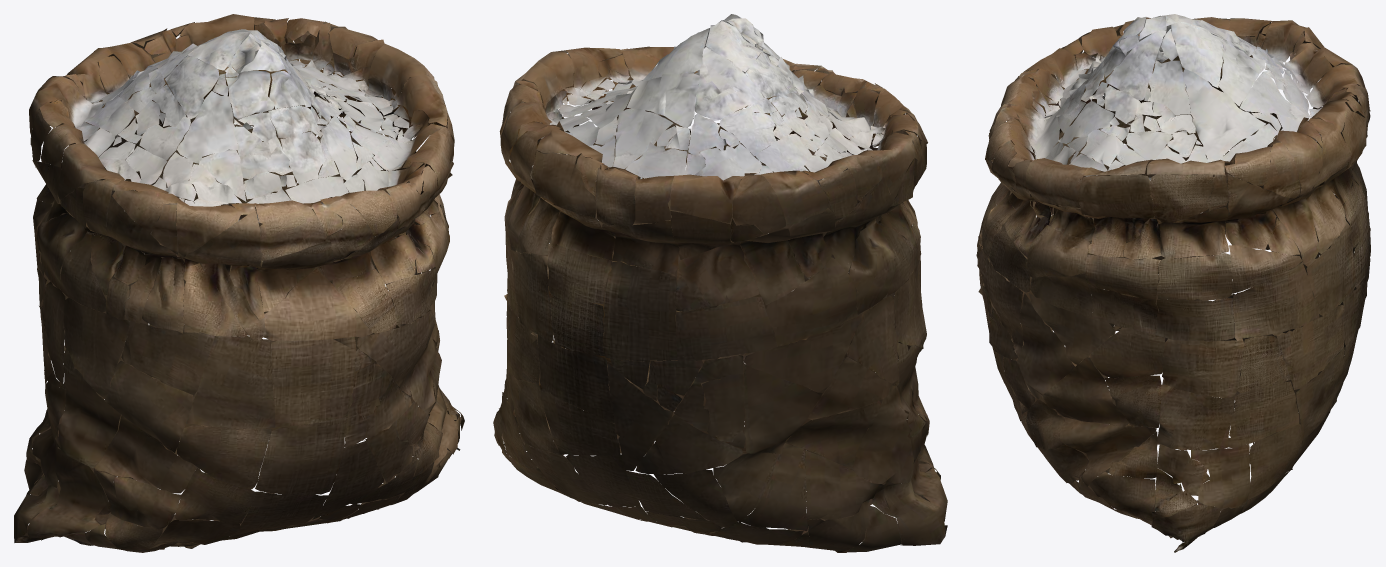
The model's file is a081_agzi_acik_un_cuvali.glb.
The picture shows the model from 3 angles, left to right: view 1: azimuth 30°, elevation 25°; view 2: azimuth 150°, elevation 25°; view 3: azimuth 270°, elevation 25°; orthographic projection. The views are drawn at different scales.
Visible parts, largest first — view 1: Mesh_0; view 2: Mesh_0; view 3: Mesh_0.
Part boxes in pixels (x1,y1,x2,y2): Mesh_0: (14,14,464,552); Mesh_0: (493,14,947,552); Mesh_0: (976,14,1370,552).
Bounding box in the file's own units: 1.77 × 1.81 × 1.47.
1 material, 1 textured.
